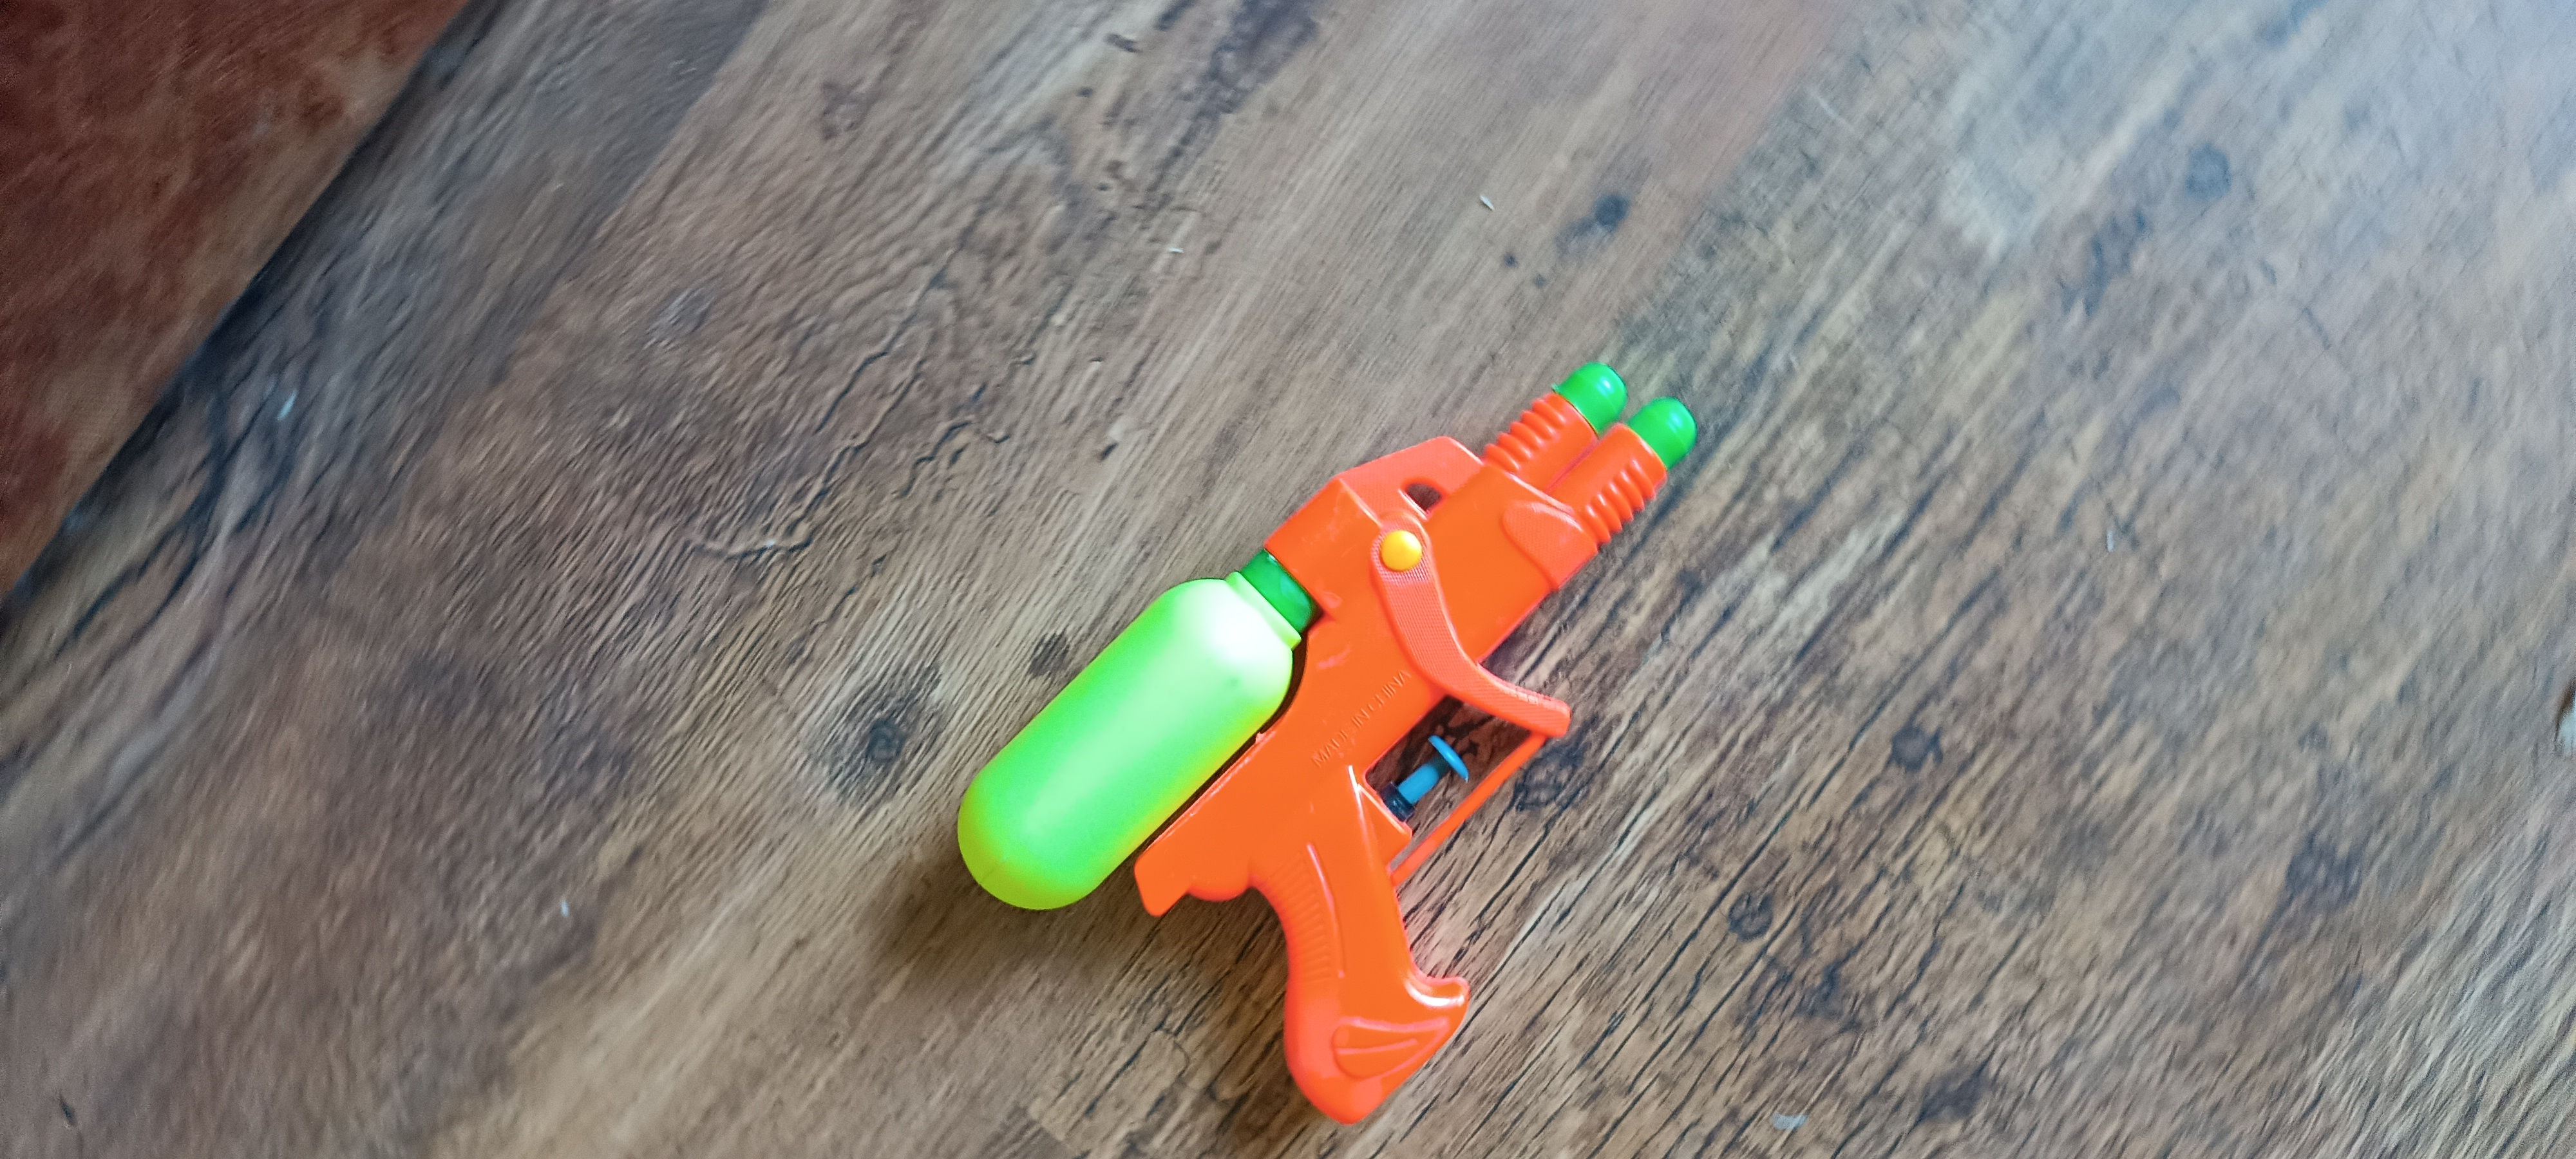Water Gun: (958, 361, 1700, 1128)
